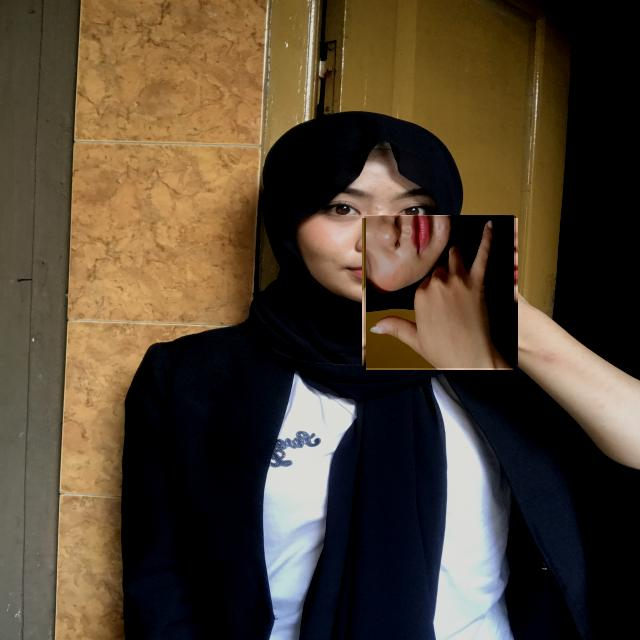telpon: (364, 216, 516, 368)
